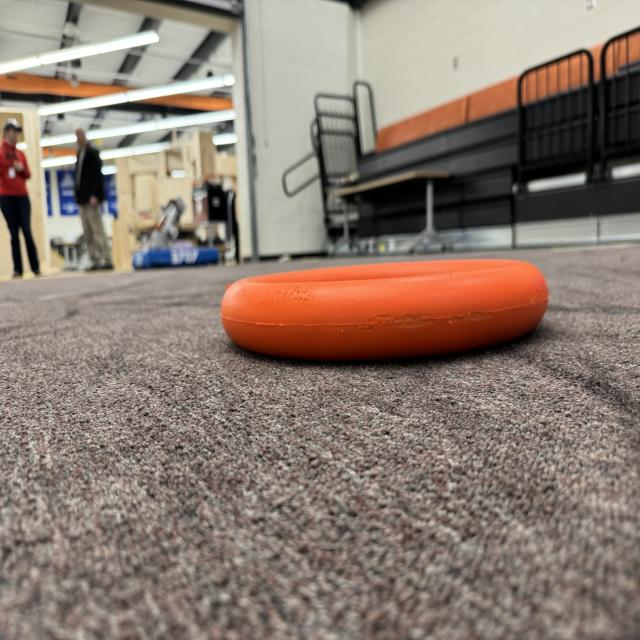note: (217, 254, 561, 373)
